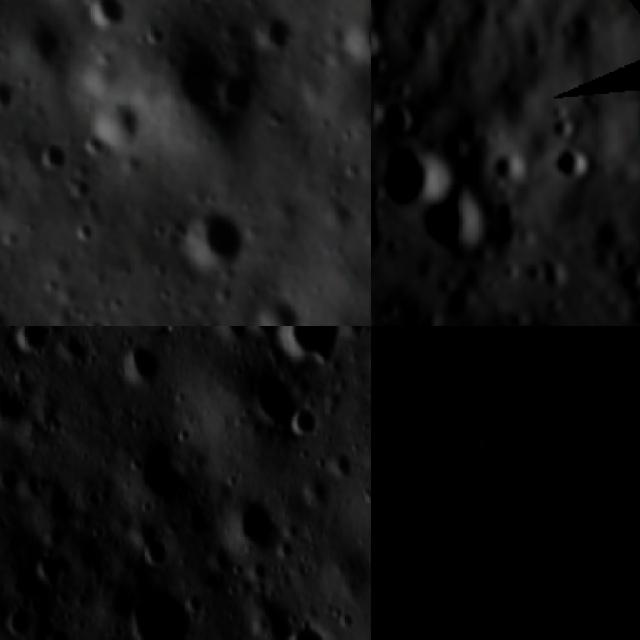crater: (409, 172, 502, 269), (371, 127, 464, 219), (394, 458, 471, 537), (444, 376, 509, 448), (482, 138, 540, 202), (183, 206, 243, 266), (119, 592, 185, 640), (545, 137, 601, 192), (220, 504, 284, 546), (286, 326, 355, 359), (541, 103, 588, 151), (85, 106, 134, 152), (471, 436, 514, 481), (394, 326, 448, 361), (118, 339, 159, 385), (606, 254, 640, 308), (7, 326, 67, 351), (216, 69, 251, 111), (209, 326, 278, 346), (281, 617, 341, 640), (142, 531, 178, 567), (340, 14, 371, 54), (371, 335, 402, 375), (35, 130, 64, 172), (371, 85, 393, 140), (371, 15, 393, 69), (88, 0, 128, 28), (7, 603, 36, 640), (288, 401, 314, 440), (250, 306, 290, 326), (0, 80, 20, 113), (9, 364, 31, 386), (0, 154, 9, 185)
